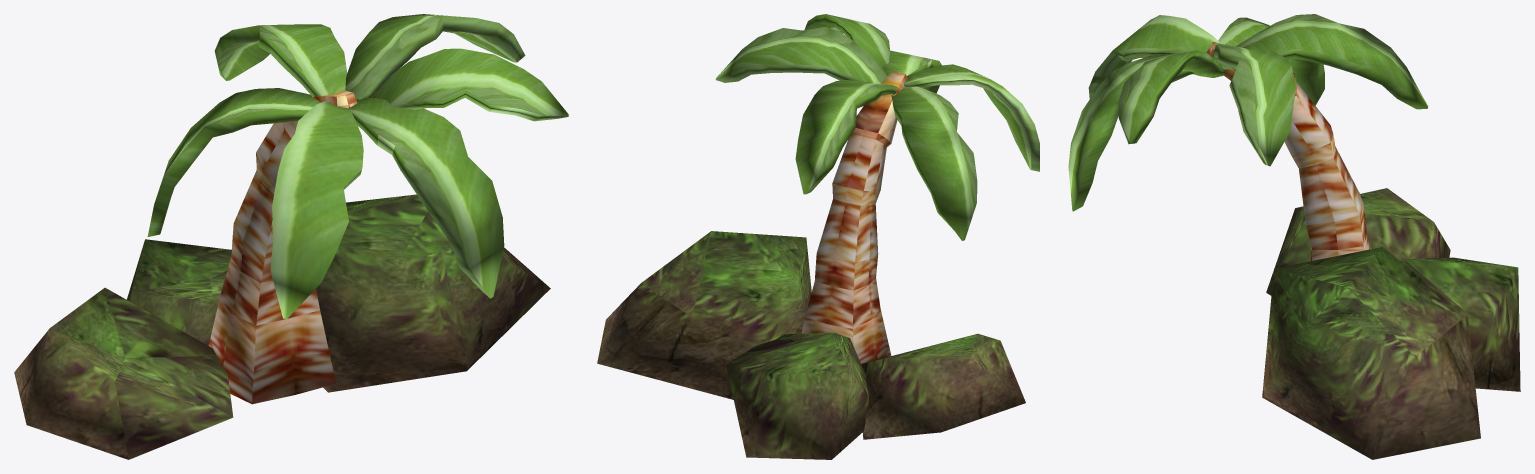
The model's file is palm rocks.fbx.
The picture shows the model from 3 angles, left to right: view 1: azimuth 30°, elevation 25°; view 2: azimuth 150°, elevation 25°; view 3: azimuth 270°, elevation 25°; orthographic projection. The views are drawn at different scales.
Visible parts, largest first — view 1: Cube.002, Icosphere, Icosphere.001, Cube, Icosphere.002; view 2: Cube.002, Icosphere, Icosphere.002, Cube, Icosphere.001; view 3: Icosphere, Cube.002, Icosphere.002, Cube, Icosphere.001.
Part boxes in pixels (bbox=[...]): Cube.002: bbox=[147, 14, 568, 318]; Icosphere: bbox=[316, 194, 550, 392]; Icosphere.001: bbox=[14, 287, 233, 459]; Cube: bbox=[208, 90, 357, 404]; Icosphere.002: bbox=[126, 239, 231, 345]; Cube.002: bbox=[715, 14, 1039, 240]; Icosphere: bbox=[597, 231, 811, 399]; Icosphere.002: bbox=[726, 332, 868, 459]; Cube: bbox=[801, 71, 908, 363]; Icosphere.001: bbox=[861, 333, 1025, 439]; Icosphere: bbox=[1262, 247, 1480, 459]; Cube.002: bbox=[1068, 14, 1428, 211]; Icosphere.002: bbox=[1400, 257, 1520, 391]; Cube: bbox=[1206, 42, 1370, 260]; Icosphere.001: bbox=[1266, 188, 1450, 295].
Size of the model in its own units: 1454 by 1103 by 1216.
3 materials, 3 textured.
